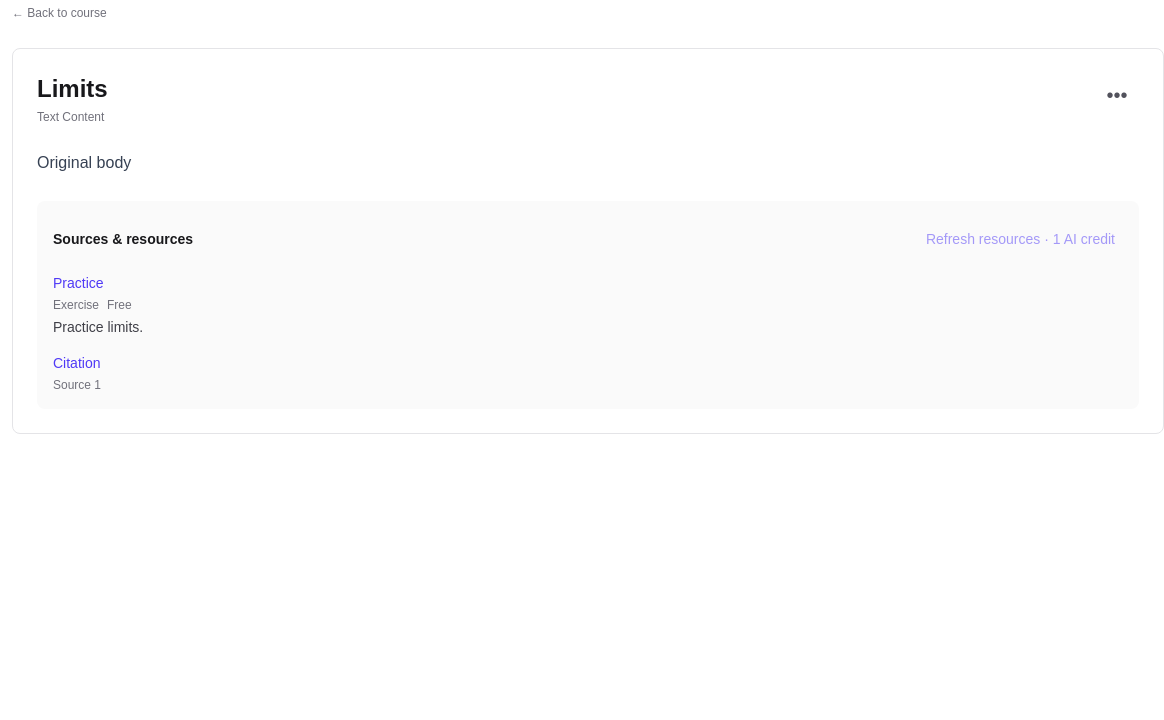
Test: lesson actions and resource refresh › places Edit and Delete in the right-aligned menu without publishing controls
Click the button named "Lesson actions" at (1117, 95), box [1095, 73, 1139, 117]
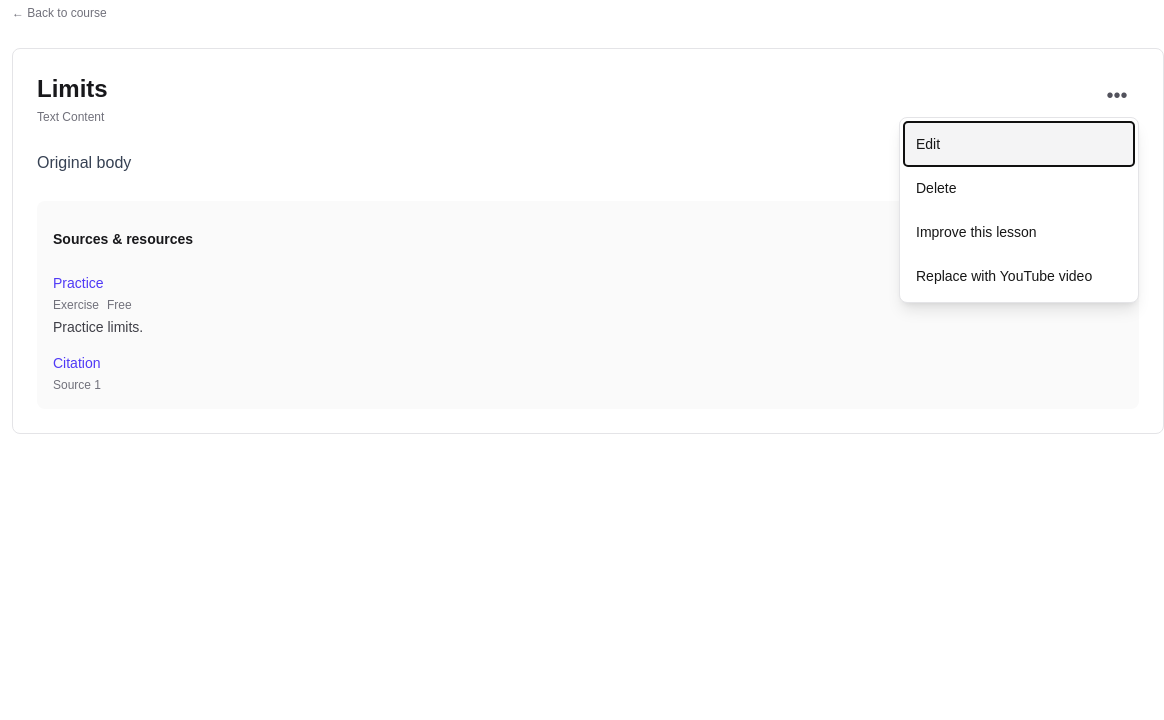
Now the menu item "Delete" is shown, box [904, 166, 1134, 210]
Click the menu item "Edit" at (1019, 144), box [904, 122, 1134, 166]
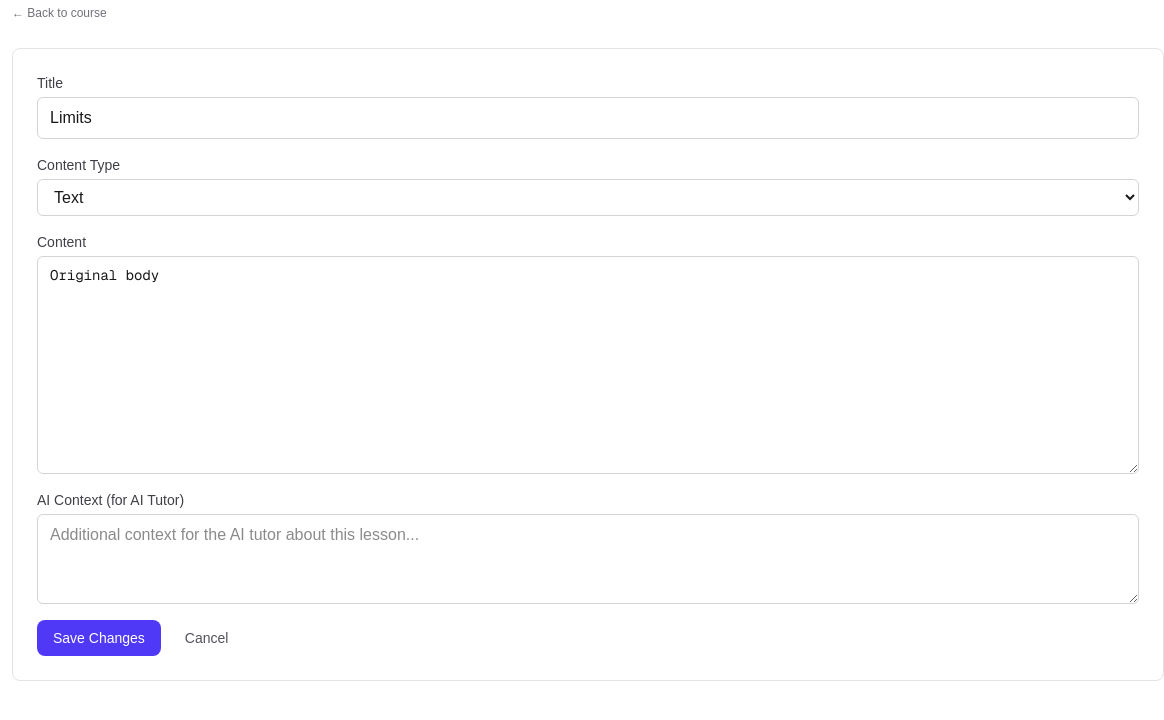
Now the button "Save Changes" is shown, box [37, 620, 161, 656]
